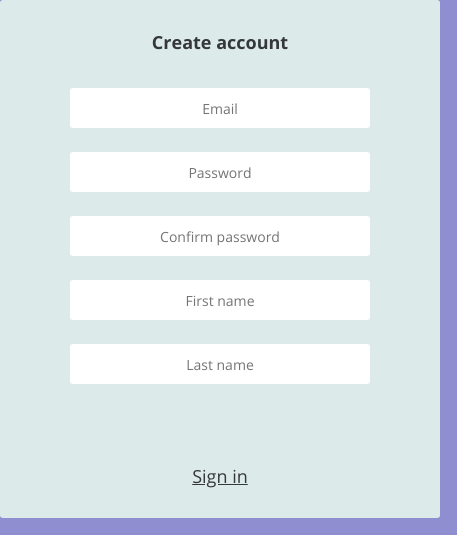
Test: test SignUpForm component › component logic test › submit button should be enabled  if all fields have valid text
Type "test@test.ru" into the field with placeholder "Email" at [220, 108], box [70,88,370,128]
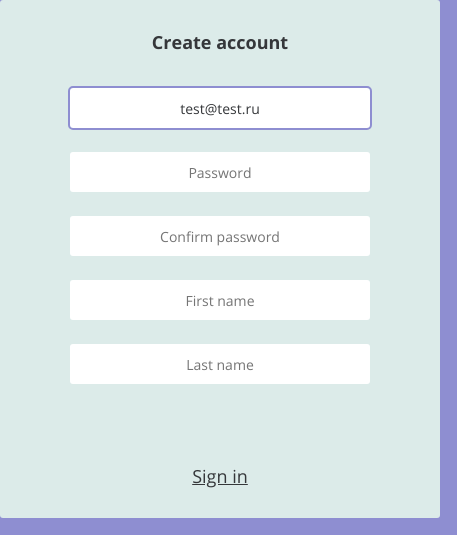
Type "12345678" into the password field with placeholder "Password" at [220, 172], box [70,152,370,192]
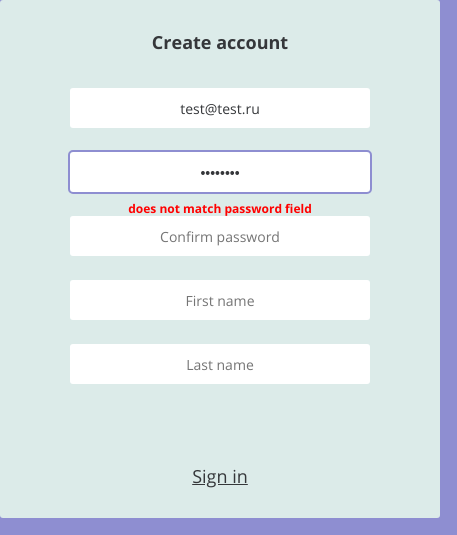
Type "12345678" into the password field with placeholder "Confirm password" at [220, 236], box [70,216,370,256]
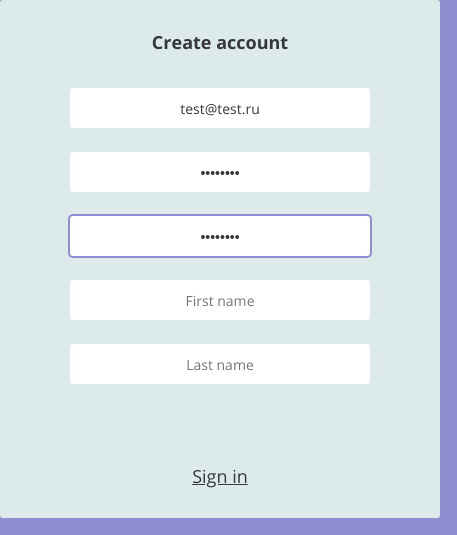
Type "TestName" into the field with placeholder "Last name" at [220, 364], box [70,344,370,384]
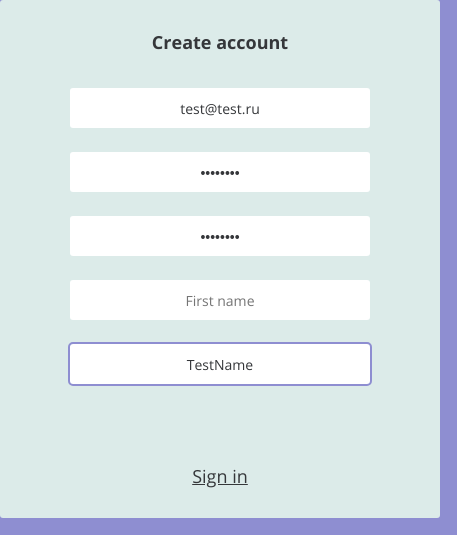
Type "TestName" into the field with placeholder "First name" at [220, 300], box [70,280,370,320]
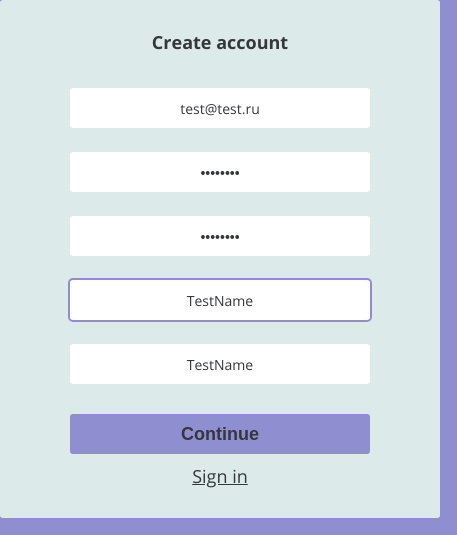
Expected: the button "Continue" is enabled, [70,414,370,454]
